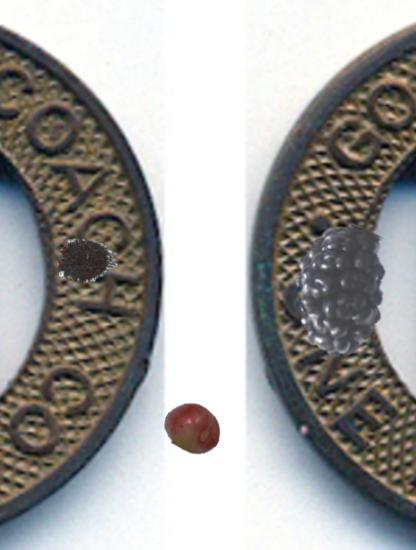Cherry: (164, 399, 223, 458)
Mulberry: (273, 225, 406, 358)
Rambutan: (54, 228, 119, 293)
